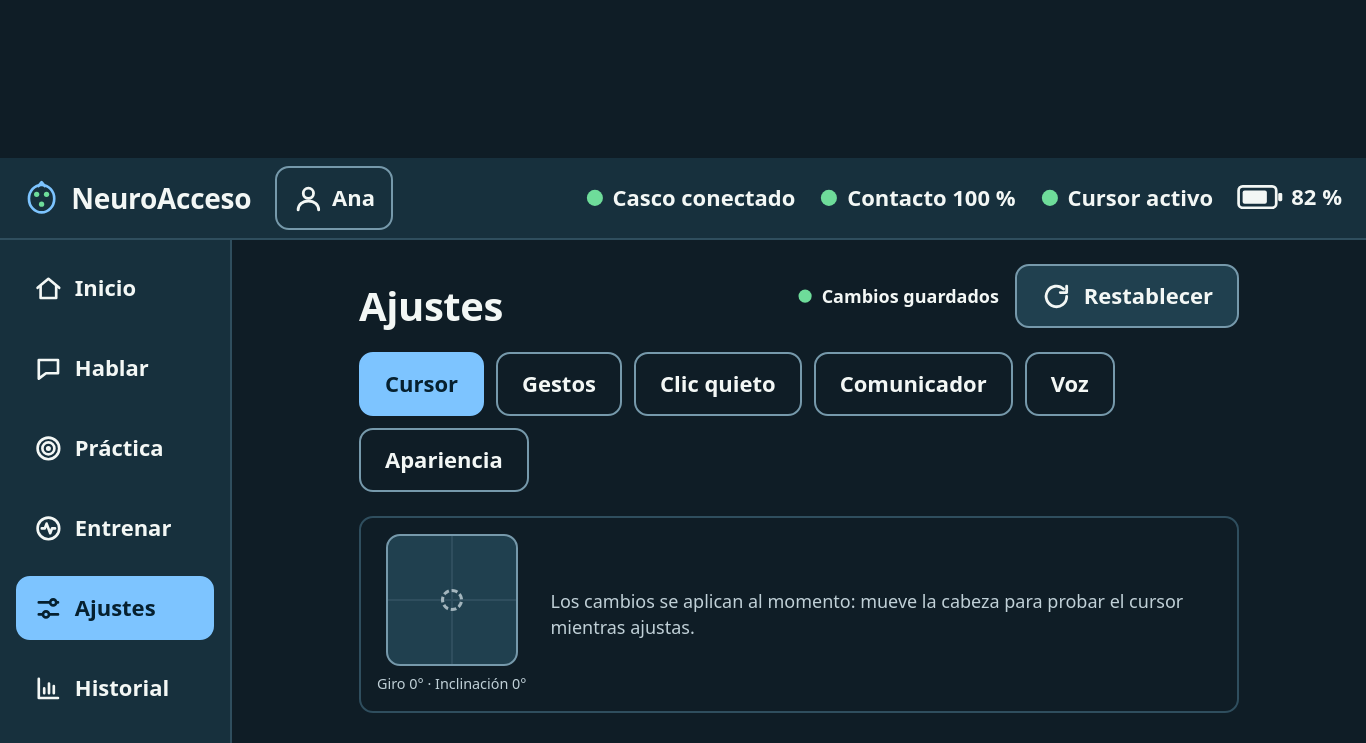
Test: pantalla de ajustes › el gesto de rescate no se puede asignar a otra acción
(page scrolled)
Click the tab "Gestos" at [559, 384], box [496,352,622,416]
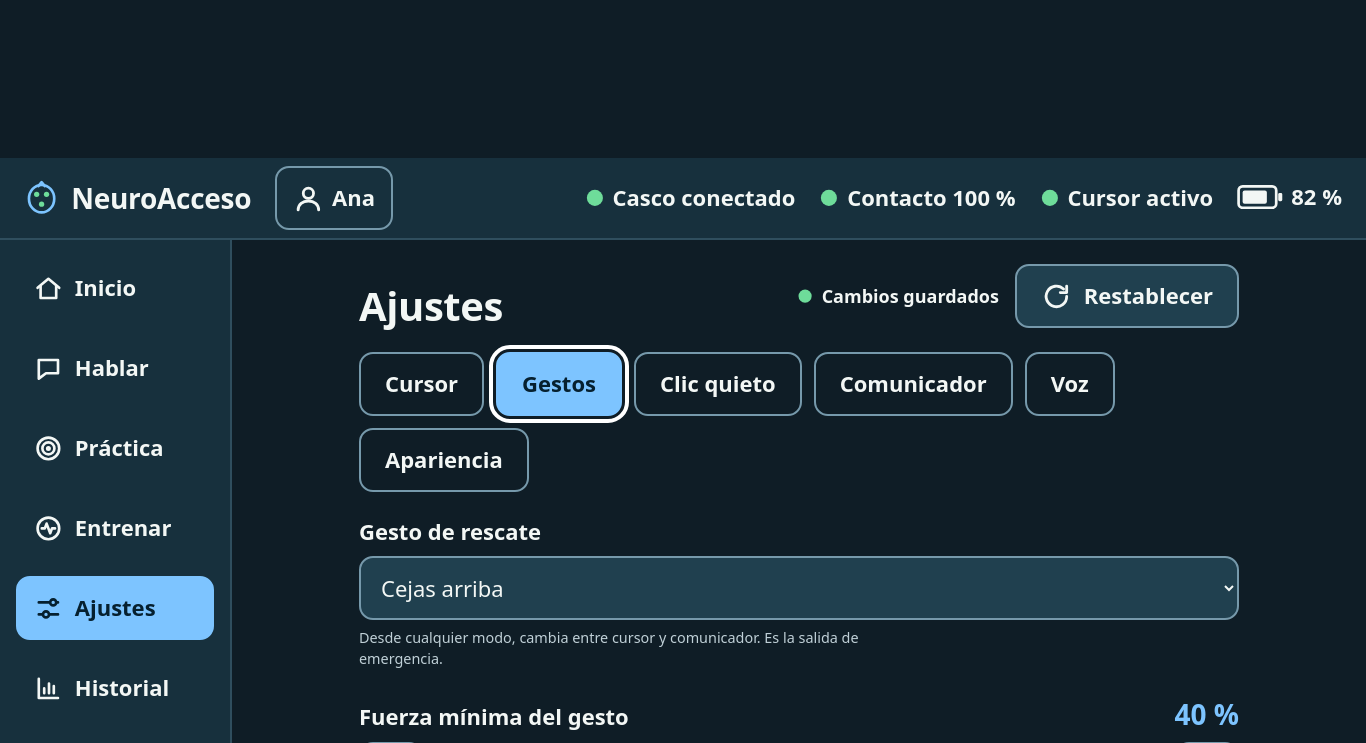
Select "Ceño fruncido" in the dropdown labelled "Gesto de rescate" at [799, 588], box [359,556,1239,620]
(page scrolled)
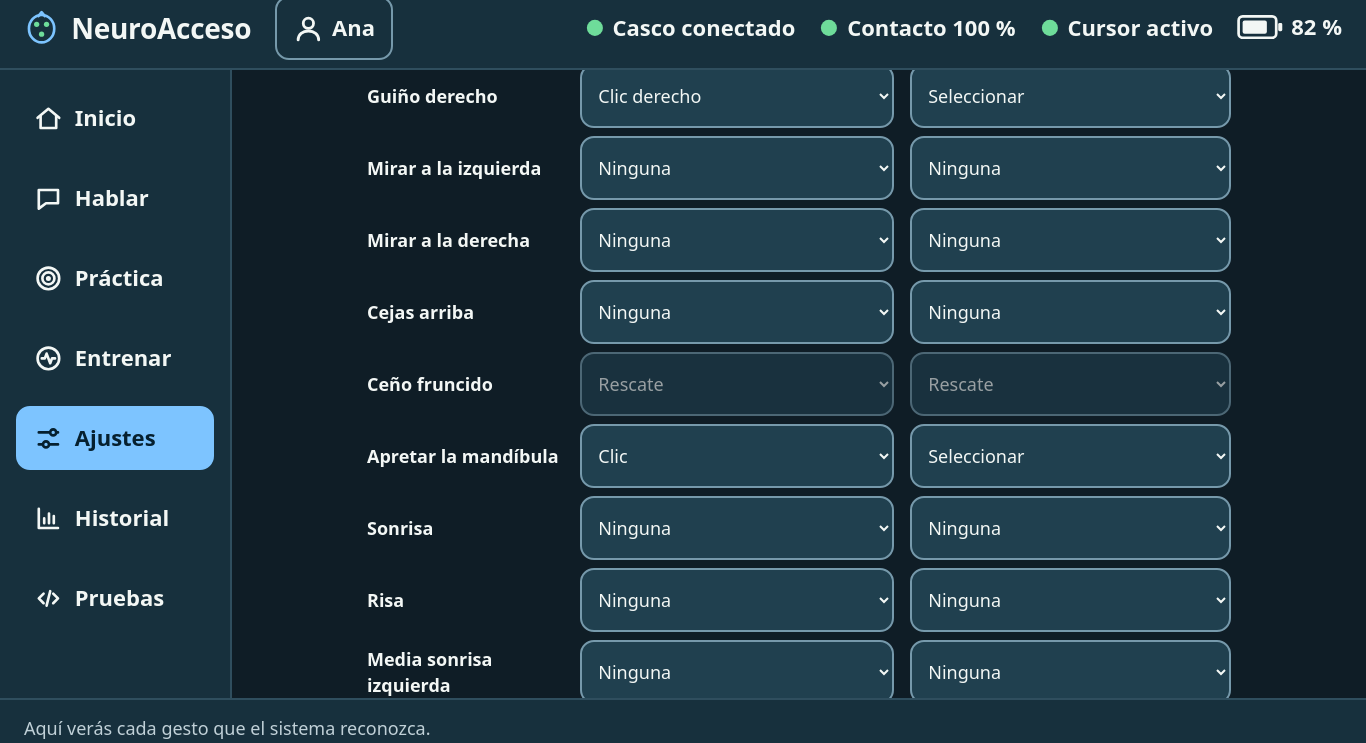
Result: the 7th dropdown named "Cejas arriba con el cursor" is enabled at [580,280,894,344]
Result: the 9th dropdown named "Ceño fruncido con el cursor" is disabled at [580,352,894,416]
